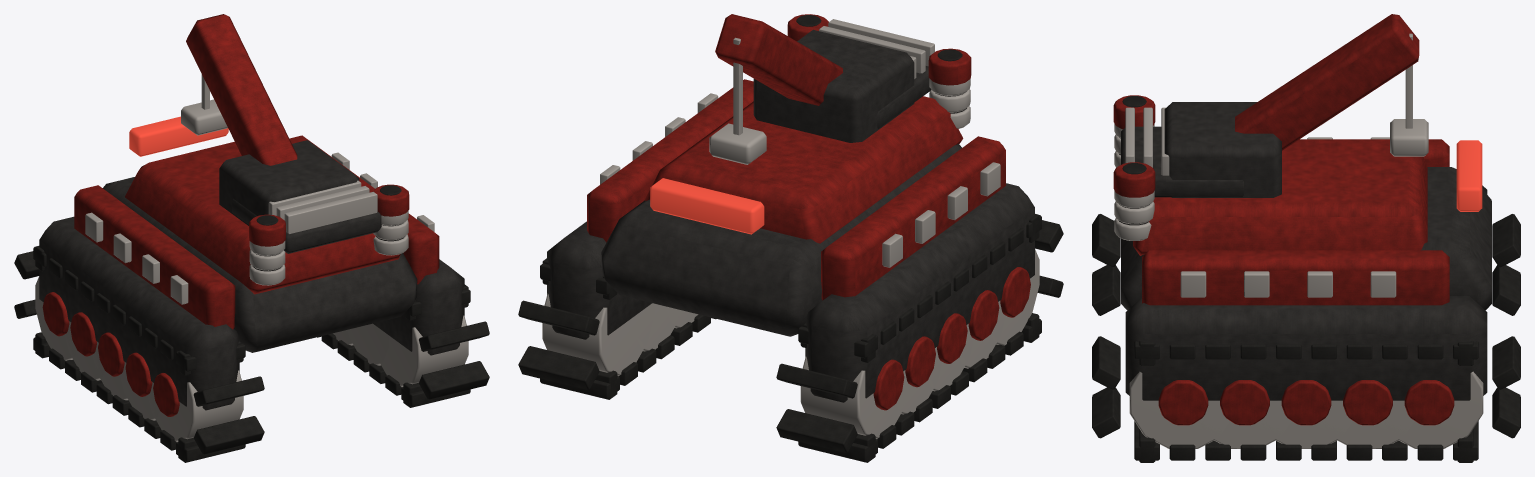
Rendered from kharn_depanneuse.gltf.
3 views of the same model, side by side, from view 1: azimuth 30°, elevation 25°; view 2: azimuth 150°, elevation 25°; view 3: azimuth 270°, elevation 25° (orthographic). The views are drawn at different scales.
Parts seen in each view (by area): view 1: Root.025_Geometry, Arm_0.001_Geometry, Track_-0.68_0.004_Geometry, Track_0.68_0.004_Geometry, Wheel_-0.67628_0.004_Geometry, Wheel_0.67628_0.004_Geometry, Wheel_-0.67628_4.004_Geometry, Wheel_-0.67628_1.004_Geometry, Wheel_-0.67628_3.004_Geometry, Wheel_-0.67628_2.004_Geometry, Wheel_0.67628_1.004_Geometry; view 2: Root.025_Geometry, Track_-0.68_0.004_Geometry, Arm_0.001_Geometry, Track_0.68_0.004_Geometry, Wheel_-0.67628_4.004_Geometry, Wheel_0.67628_4.004_Geometry, Wheel_-0.67628_0.004_Geometry, Wheel_-0.67628_3.004_Geometry, Wheel_-0.67628_1.004_Geometry, Wheel_-0.67628_2.004_Geometry, Wheel_0.67628_3.004_Geometry; view 3: Root.025_Geometry, Track_0.68_0.004_Geometry, Arm_0.001_Geometry, Track_-0.68_0.004_Geometry, Wheel_0.67628_0.004_Geometry, Wheel_0.67628_4.004_Geometry, Wheel_0.67628_3.004_Geometry, Wheel_0.67628_2.004_Geometry, Wheel_0.67628_1.004_Geometry.
Part boxes in pixels (left/top/right/bottom): Root.025_Geometry: left=39, top=116, right=464, bottom=410; Arm_0.001_Geometry: left=181, top=14, right=297, bottom=165; Track_-0.68_0.004_Geometry: left=14, top=246, right=264, bottom=462; Track_0.68_0.004_Geometry: left=317, top=284, right=489, bottom=407; Wheel_-0.67628_0.004_Geometry: left=147, top=370, right=243, bottom=441; Wheel_0.67628_0.004_Geometry: left=380, top=315, right=468, bottom=386; Wheel_-0.67628_4.004_Geometry: left=35, top=276, right=76, bottom=360; Wheel_-0.67628_1.004_Geometry: left=120, top=352, right=160, bottom=420; Wheel_-0.67628_3.004_Geometry: left=64, top=312, right=104, bottom=380; Wheel_-0.67628_2.004_Geometry: left=92, top=332, right=131, bottom=400; Wheel_0.67628_1.004_Geometry: left=347, top=323, right=388, bottom=365; Root.025_Geometry: left=547, top=14, right=1034, bottom=402; Track_-0.68_0.004_Geometry: left=776, top=214, right=1063, bottom=462; Arm_0.001_Geometry: left=709, top=14, right=843, bottom=164; Track_0.68_0.004_Geometry: left=518, top=258, right=716, bottom=399; Wheel_-0.67628_4.004_Geometry: left=800, top=356, right=910, bottom=438; Wheel_0.67628_4.004_Geometry: left=542, top=293, right=654, bottom=375; Wheel_-0.67628_0.004_Geometry: left=991, top=249, right=1039, bottom=345; Wheel_-0.67628_3.004_Geometry: left=896, top=336, right=942, bottom=414; Wheel_-0.67628_1.004_Geometry: left=959, top=290, right=1005, bottom=368; Wheel_-0.67628_2.004_Geometry: left=928, top=313, right=974, bottom=391; Wheel_0.67628_3.004_Geometry: left=636, top=304, right=681, bottom=351; Root.025_Geometry: left=1113, top=95, right=1491, bottom=400; Track_0.68_0.004_Geometry: left=1092, top=336, right=1520, bottom=462; Arm_0.001_Geometry: left=1235, top=14, right=1428, bottom=156; Track_-0.68_0.004_Geometry: left=1092, top=214, right=1520, bottom=315; Wheel_0.67628_0.004_Geometry: left=1129, top=371, right=1229, bottom=448; Wheel_0.67628_4.004_Geometry: left=1384, top=371, right=1483, bottom=448; Wheel_0.67628_3.004_Geometry: left=1322, top=380, right=1414, bottom=448; Wheel_0.67628_2.004_Geometry: left=1261, top=380, right=1352, bottom=448; Wheel_0.67628_1.004_Geometry: left=1199, top=380, right=1291, bottom=448.
Size of the model in its own units: 1.73 by 1.88 by 2.
Materials: 5 (3 with a texture image).
